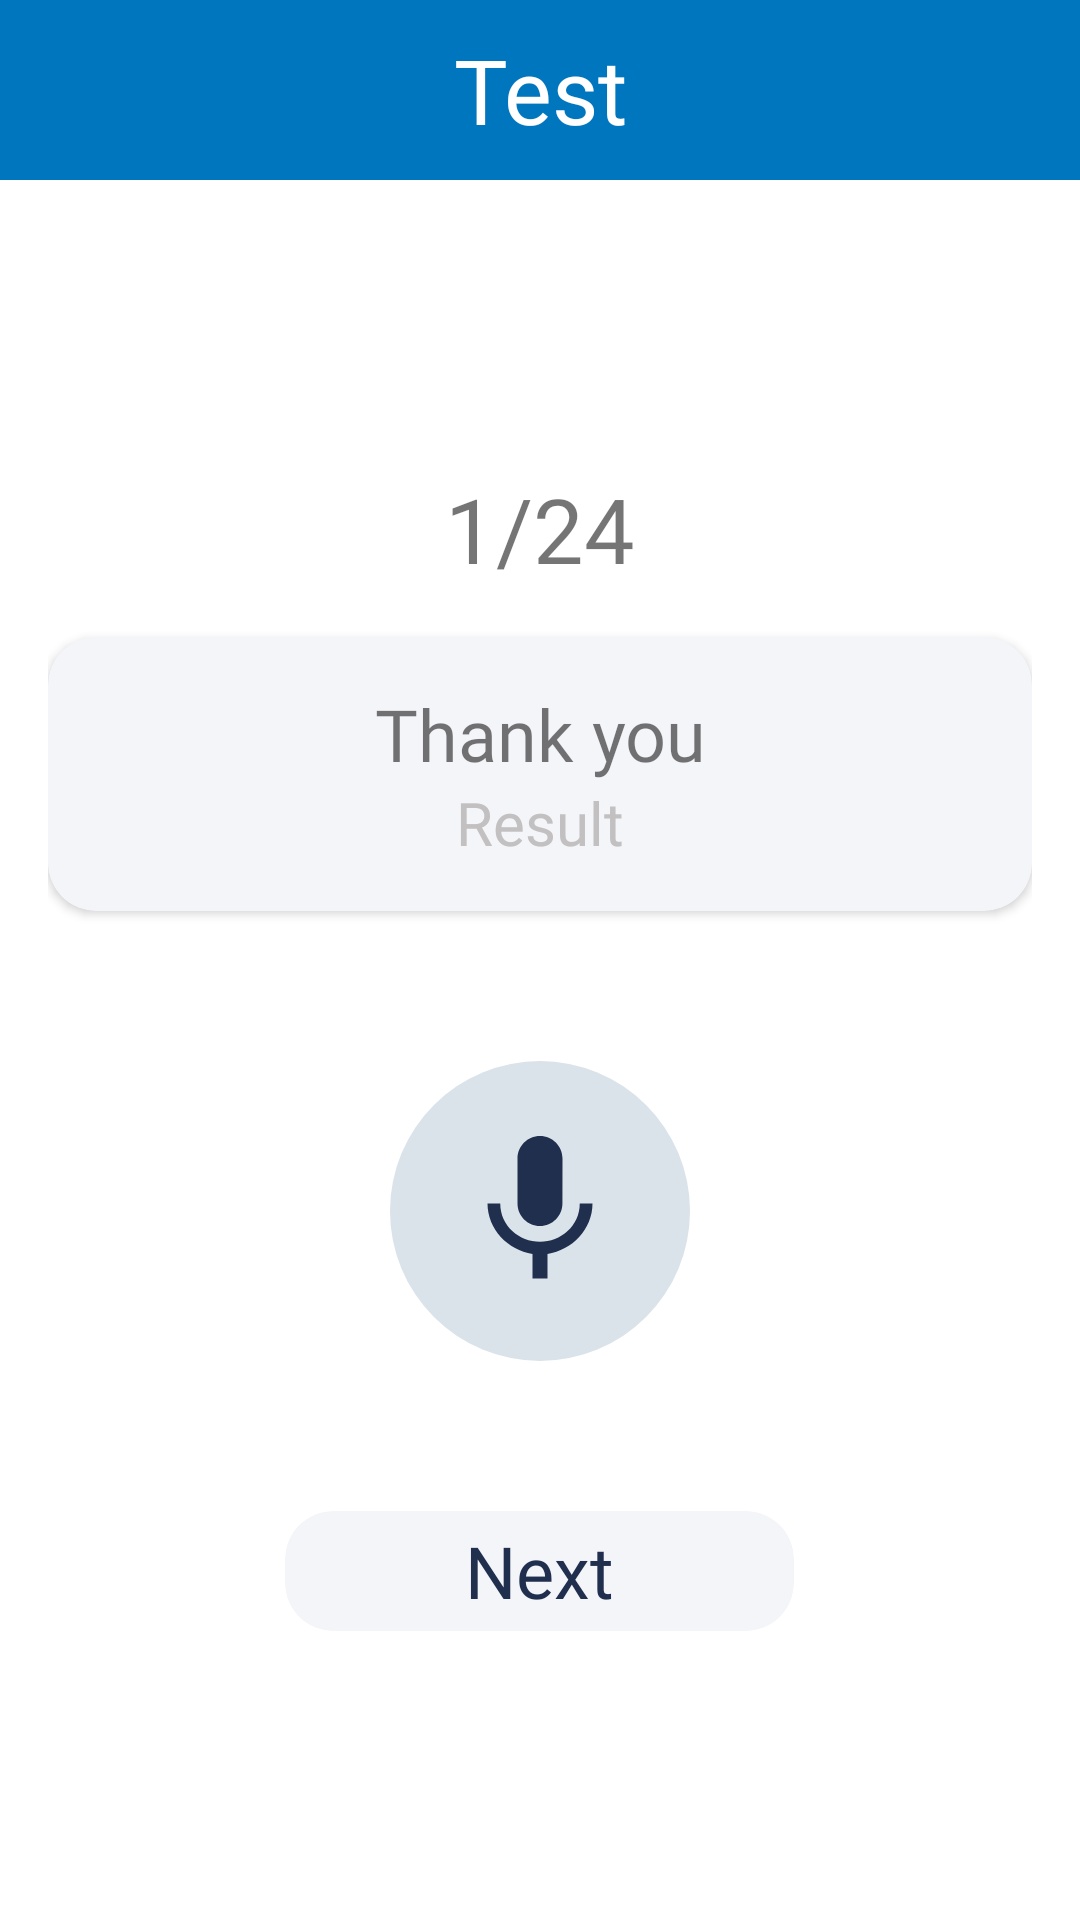

Screen size 1080x1920. Icon name, then its center in pixels as [x,y]:
mic: [540,1207]
